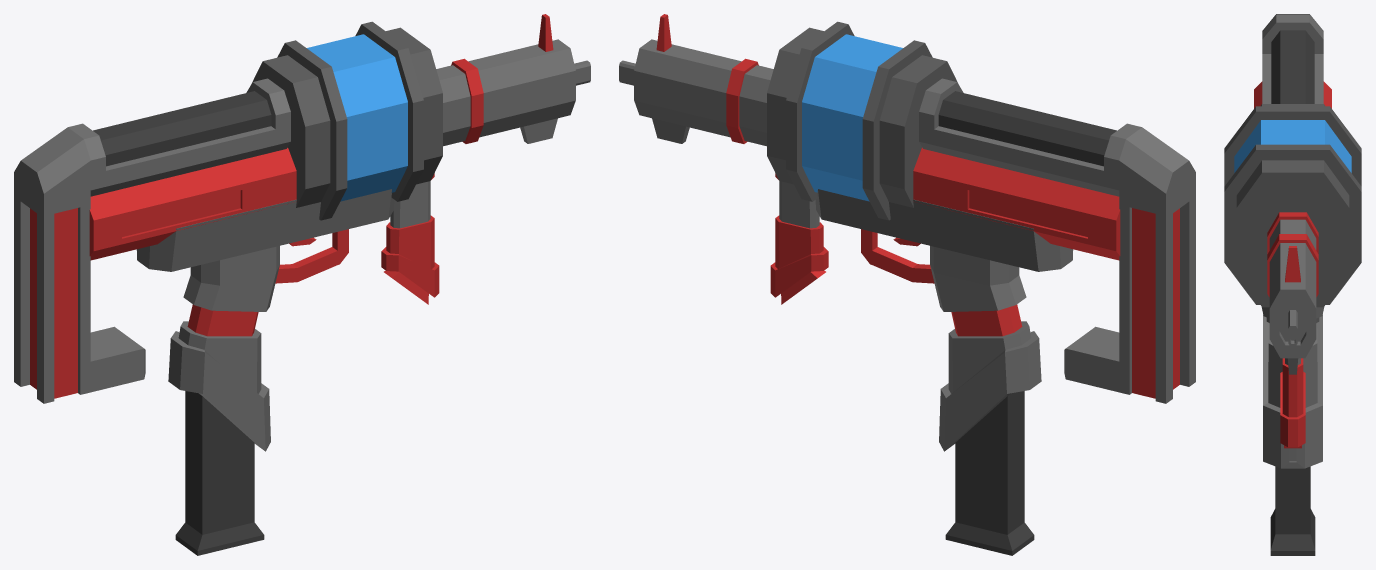
The model's file is Uzi.fbx.
3 renders of one model, left to right at view 1: azimuth 30°, elevation 25°; view 2: azimuth 150°, elevation 25°; view 3: azimuth 270°, elevation 25°, orthographic. The views are drawn at different scales.
Visible parts, largest first — view 1: Uzi; view 2: Uzi; view 3: Uzi.
Part boxes in pixels (<box>): Uzi: <box>14,14,590,555</box>; Uzi: <box>619,14,1195,555</box>; Uzi: <box>1224,14,1361,555</box>.
Size of the model in its own units: 146 by 115 by 30.21.
